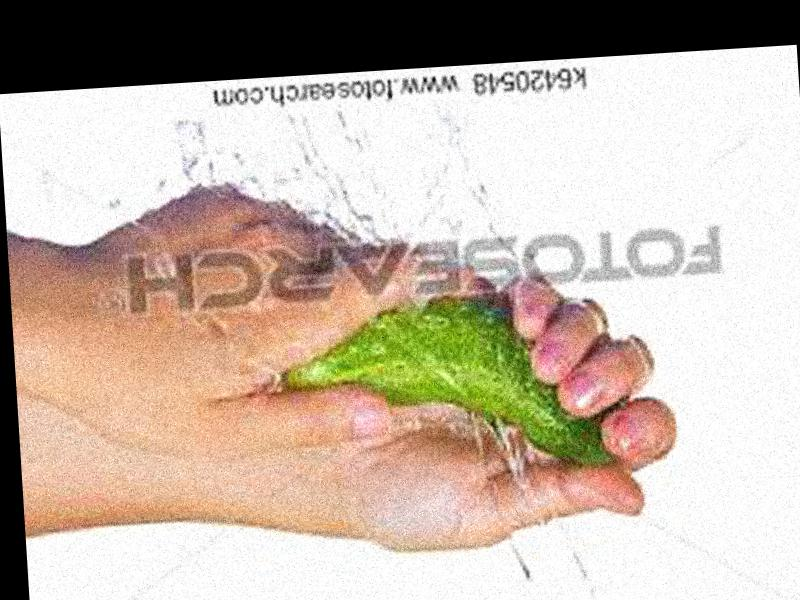Cucumber: (268, 281, 618, 486)
